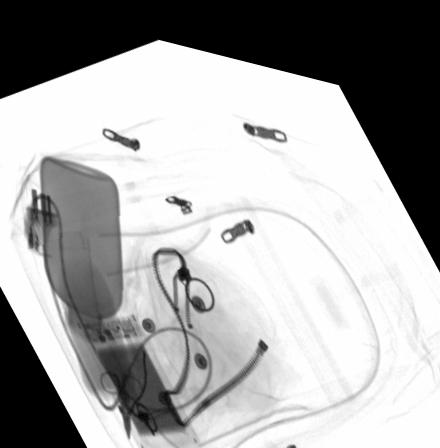Powerbank: (75, 305, 199, 445)
Scissors: (97, 363, 143, 433)
